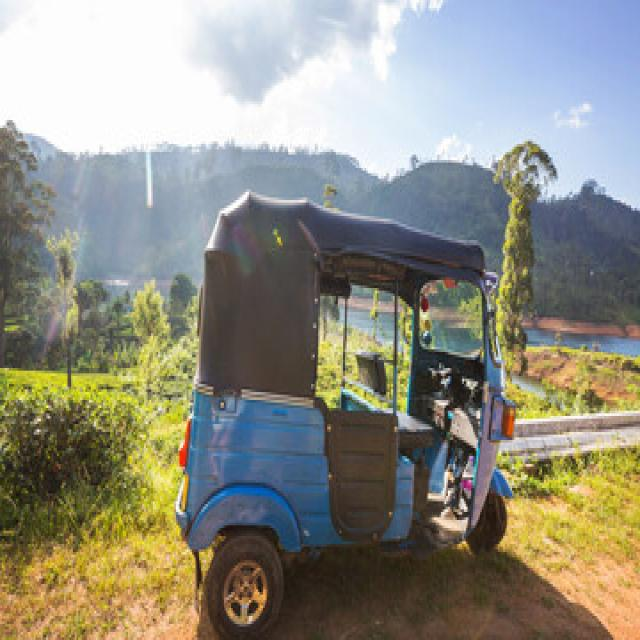three wheeler: (176, 192, 514, 637)
